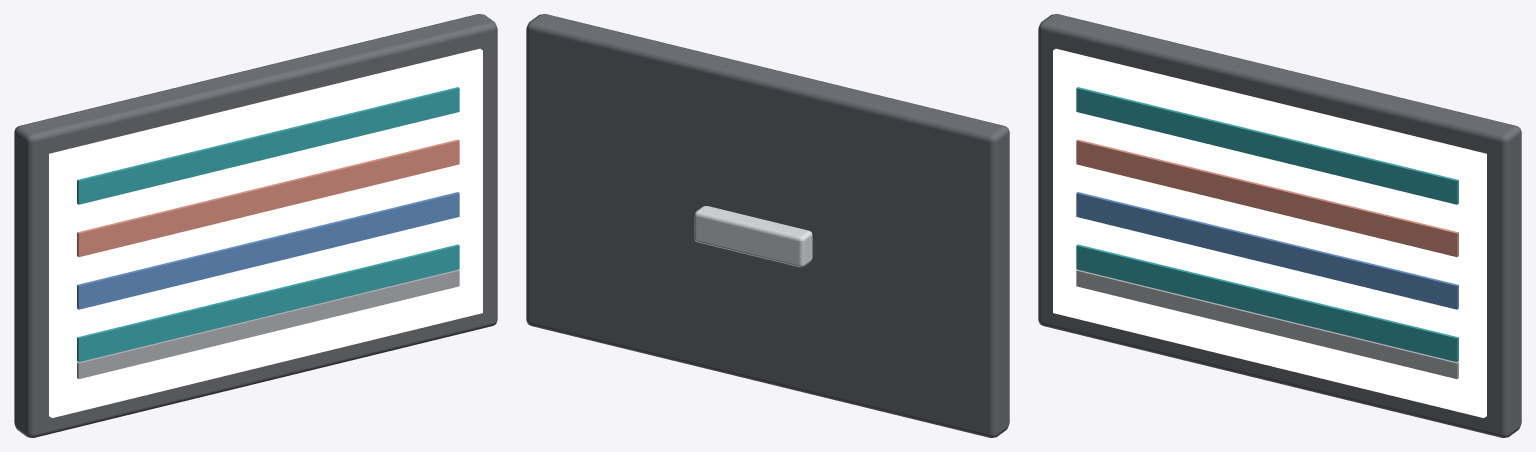
Rendered from Appointment Screen (Dental Practice and Surgery).glb.
The picture shows the model from 3 angles, left to right: view 1: azimuth 30°, elevation 25°; view 2: azimuth 150°, elevation 25°; view 3: azimuth 330°, elevation 25°; orthographic projection.
Parts seen in each view (by area): view 1: appointment-screen; view 2: appointment-screen; view 3: appointment-screen.
Part boxes in pixels (left/top/right/bottom): appointment-screen: left=14, top=14, right=497, bottom=437; appointment-screen: left=526, top=14, right=1009, bottom=437; appointment-screen: left=1038, top=14, right=1521, bottom=437.
Bounding box in the file's own units: 0.94 × 0.58 × 0.116.
